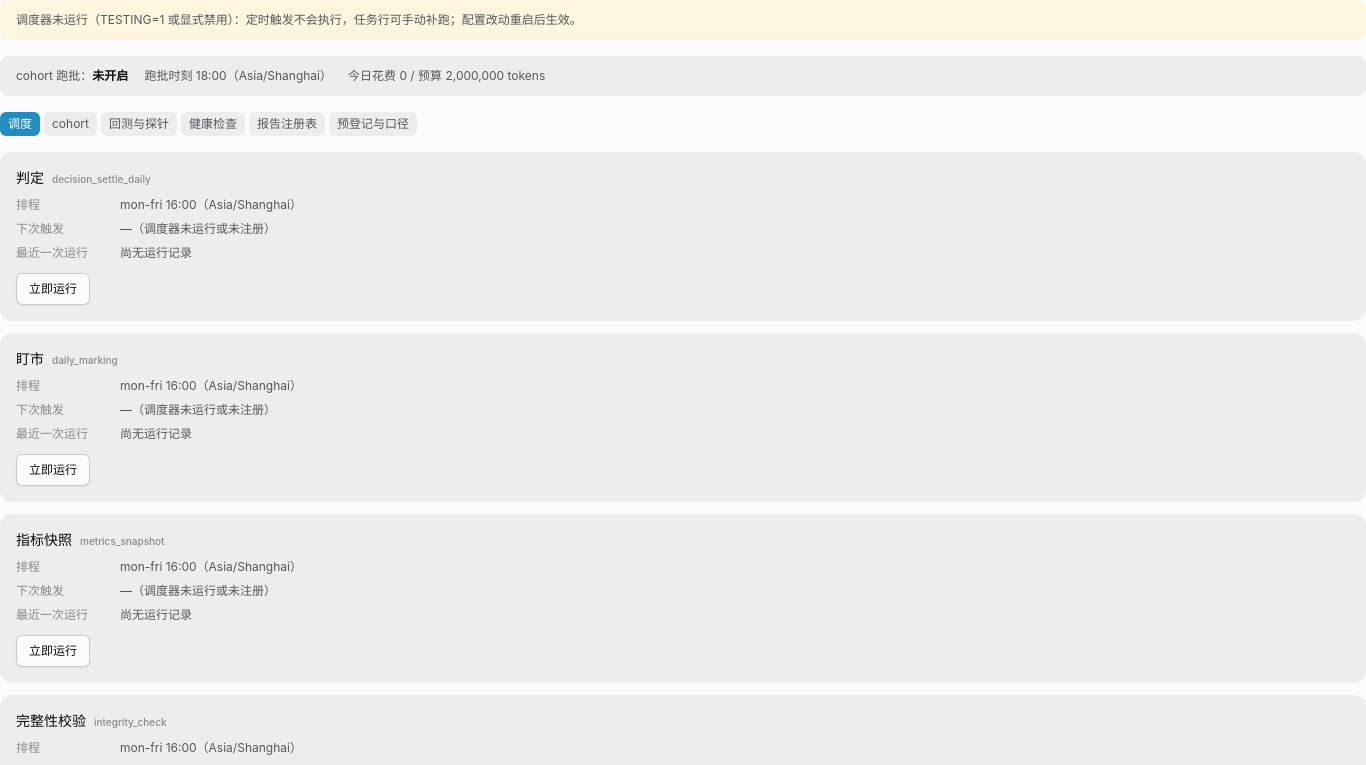
Test case: EvalOpsPane 评估运维分区（add-eval-ops-console Task 6） › 开启 cohort 开关先弹确认（含成本估算与预算上限），取消零请求
Click the button "cohort". click: (70, 124)
box: x1=44 y1=112 x2=97 y2=136
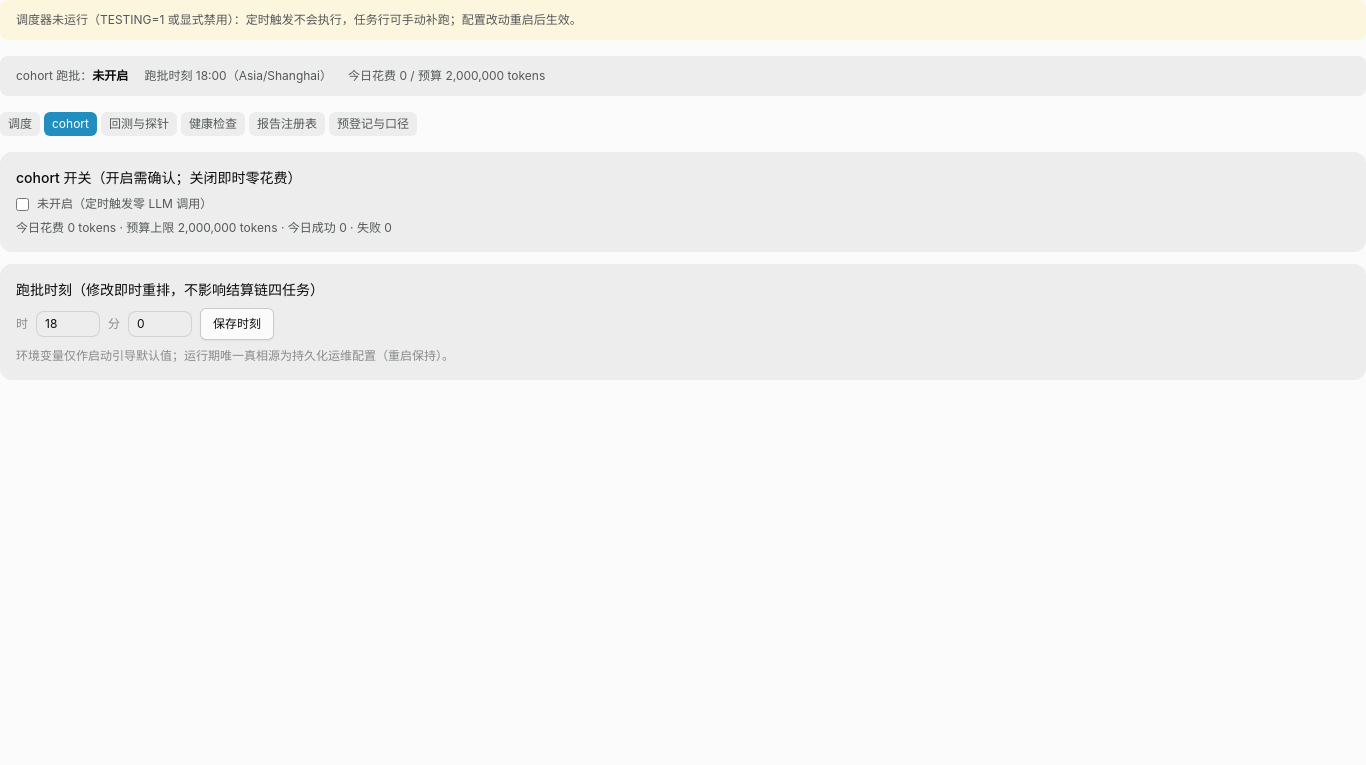
Expected: the element with test id "eval-ops-cohort-summary" is shown, x1=0 y1=56 x2=1365 y2=96
Click the checkbox with test id "eval-ops-cohort-toggle". click: (22, 204)
box: x1=16 y1=198 x2=29 y2=210
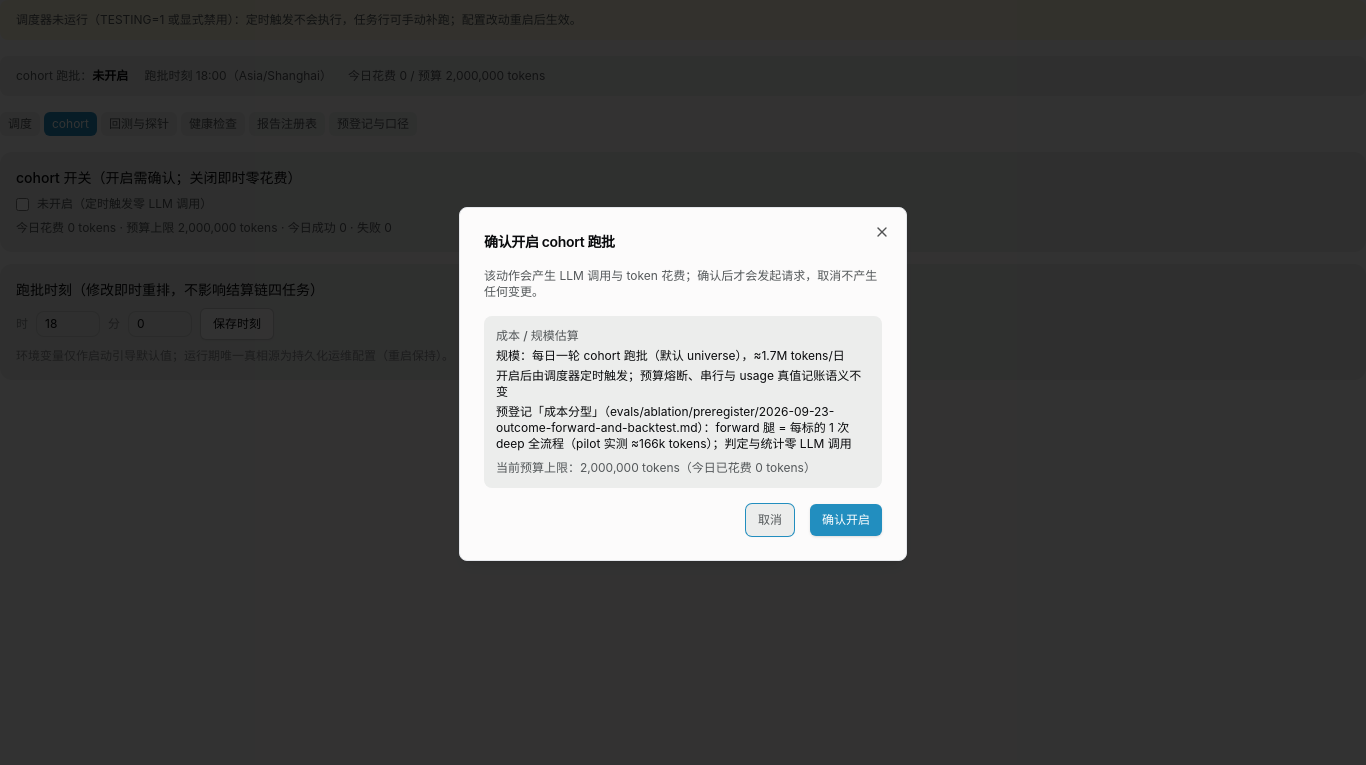
Now the dialog with test id "eval-ops-confirm-dialog" shows "开启 cohort", box x1=511 y1=233 x2=615 y2=250
Now the element with test id "eval-ops-confirm-cost" shows "tokens", box x1=496 y1=348 x2=845 y2=363
Now the element with test id "eval-ops-confirm-cost" shows "≈1.7M tokens/日", box x1=496 y1=348 x2=845 y2=363
Click the button with test id "eval-ops-confirm-cancel". click: (770, 520)
box: x1=746 y1=504 x2=794 y2=536
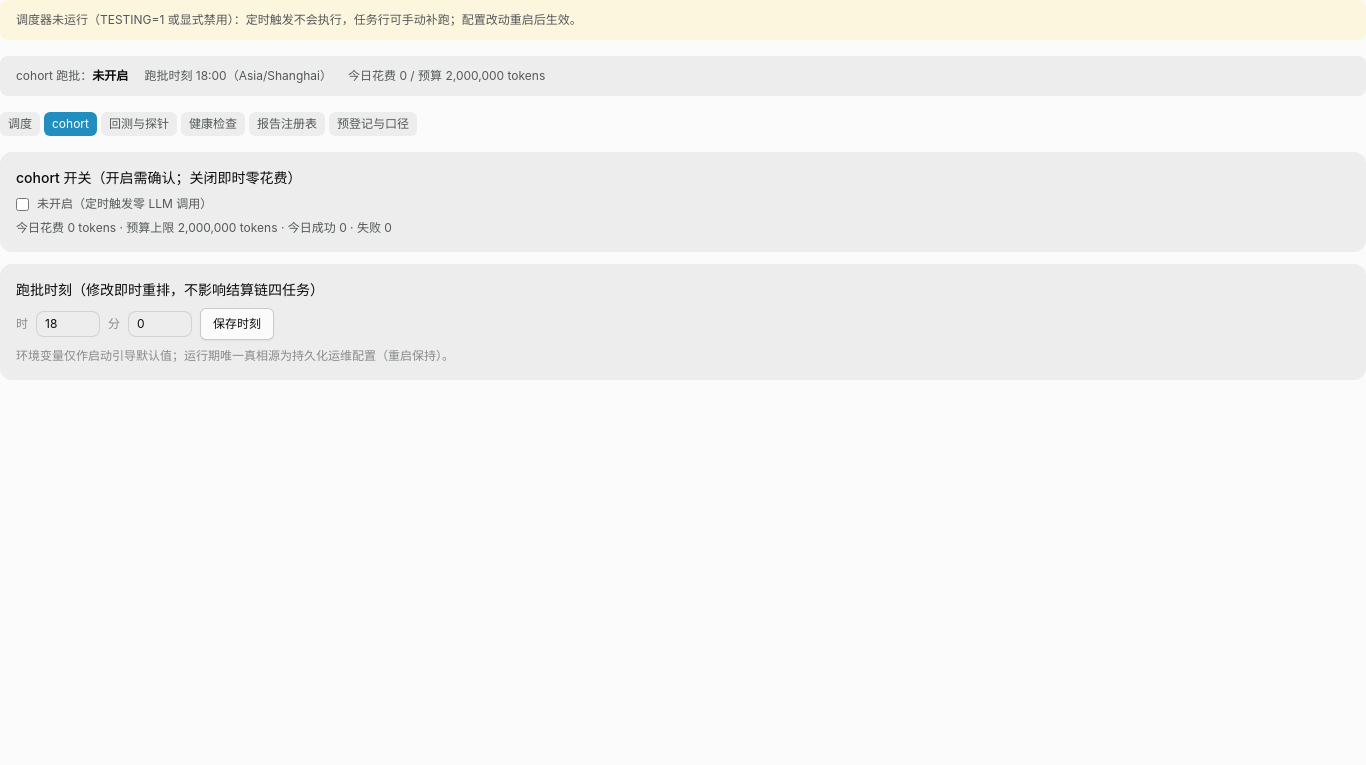
Now the dialog with test id "eval-ops-confirm-dialog" is gone
